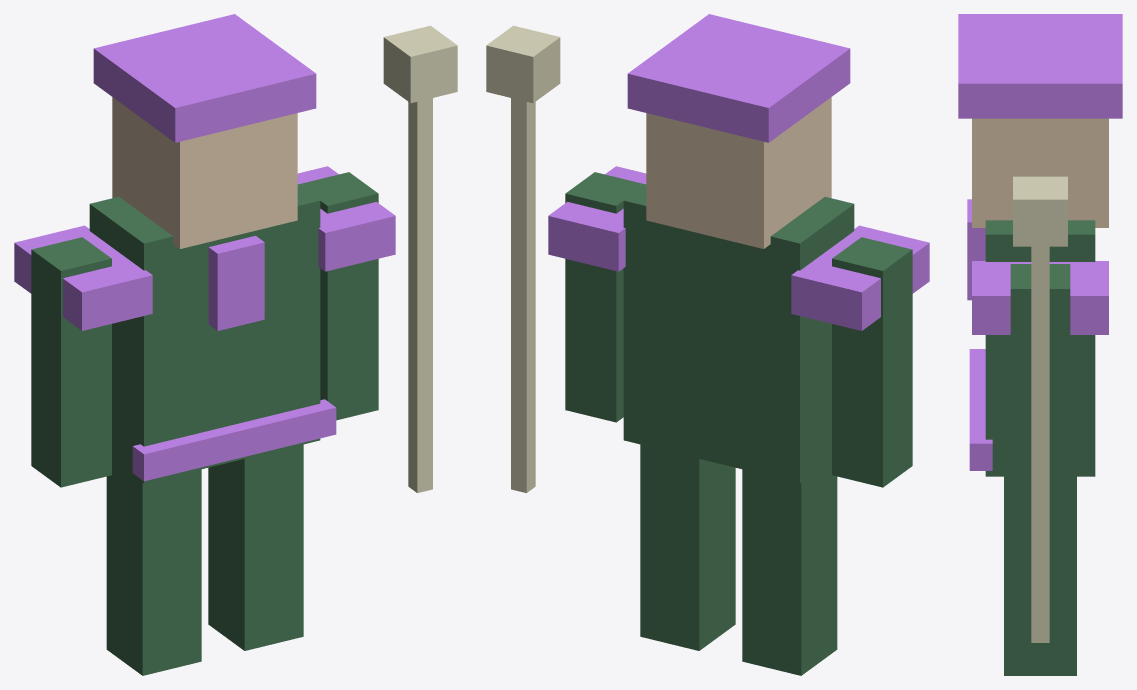
Rendered from 04_ilyra_wayfare_diver_at.glb.
3 renders of one model, left to right at view 1: azimuth 30°, elevation 25°; view 2: azimuth 150°, elevation 25°; view 3: azimuth 270°, elevation 25°, orthographic.
Parts seen in each view (by area): view 1: Ilyra Wayfare, Diver at; view 2: Ilyra Wayfare, Diver at; view 3: Ilyra Wayfare, Diver at.
Part boxes in pixels (x1,y1,x2,y2): Ilyra Wayfare, Diver at: (14, 14, 457, 675); Ilyra Wayfare, Diver at: (486, 14, 929, 675); Ilyra Wayfare, Diver at: (958, 14, 1122, 675).
Size of the model in its own units: 1.03 by 1.44 by 0.3665.
